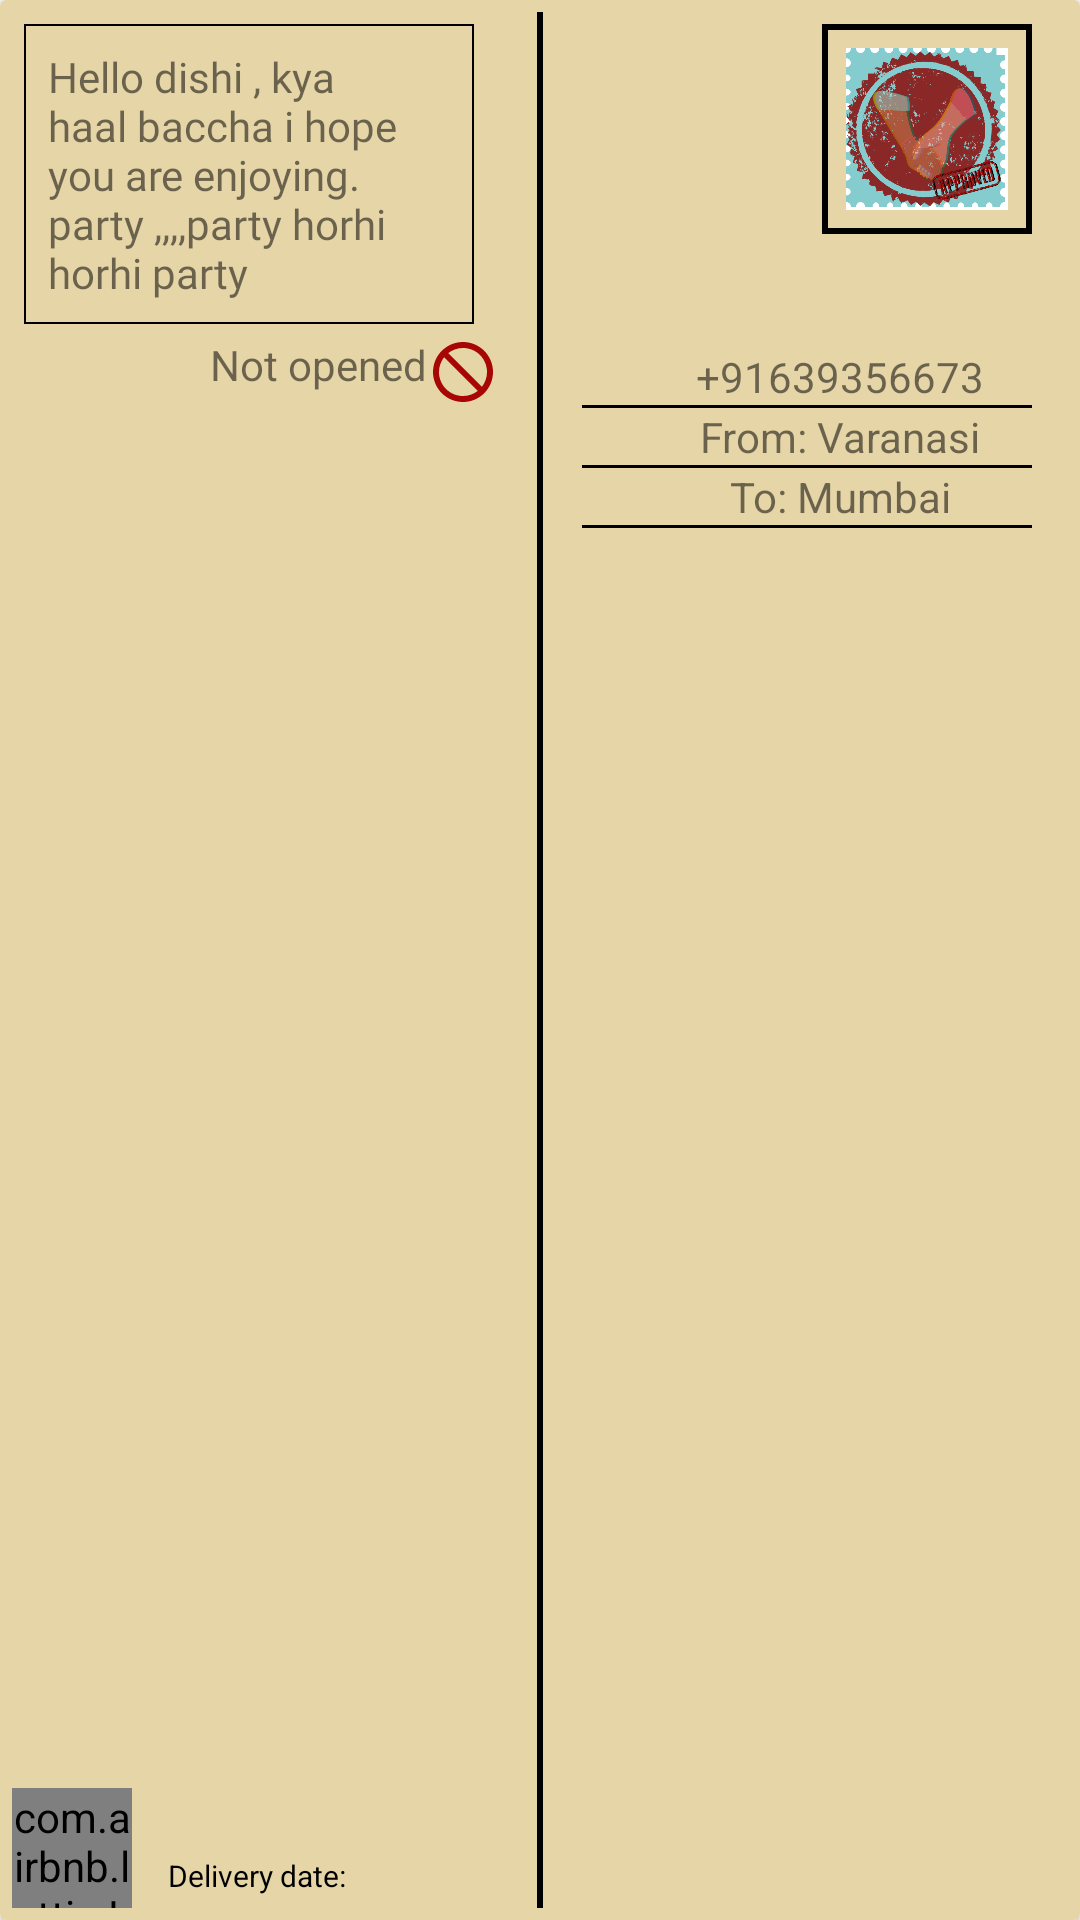

Where to tap for icons on this 1080 x 1920 app screen, as (x,y):
basic stamp: (927,129)
